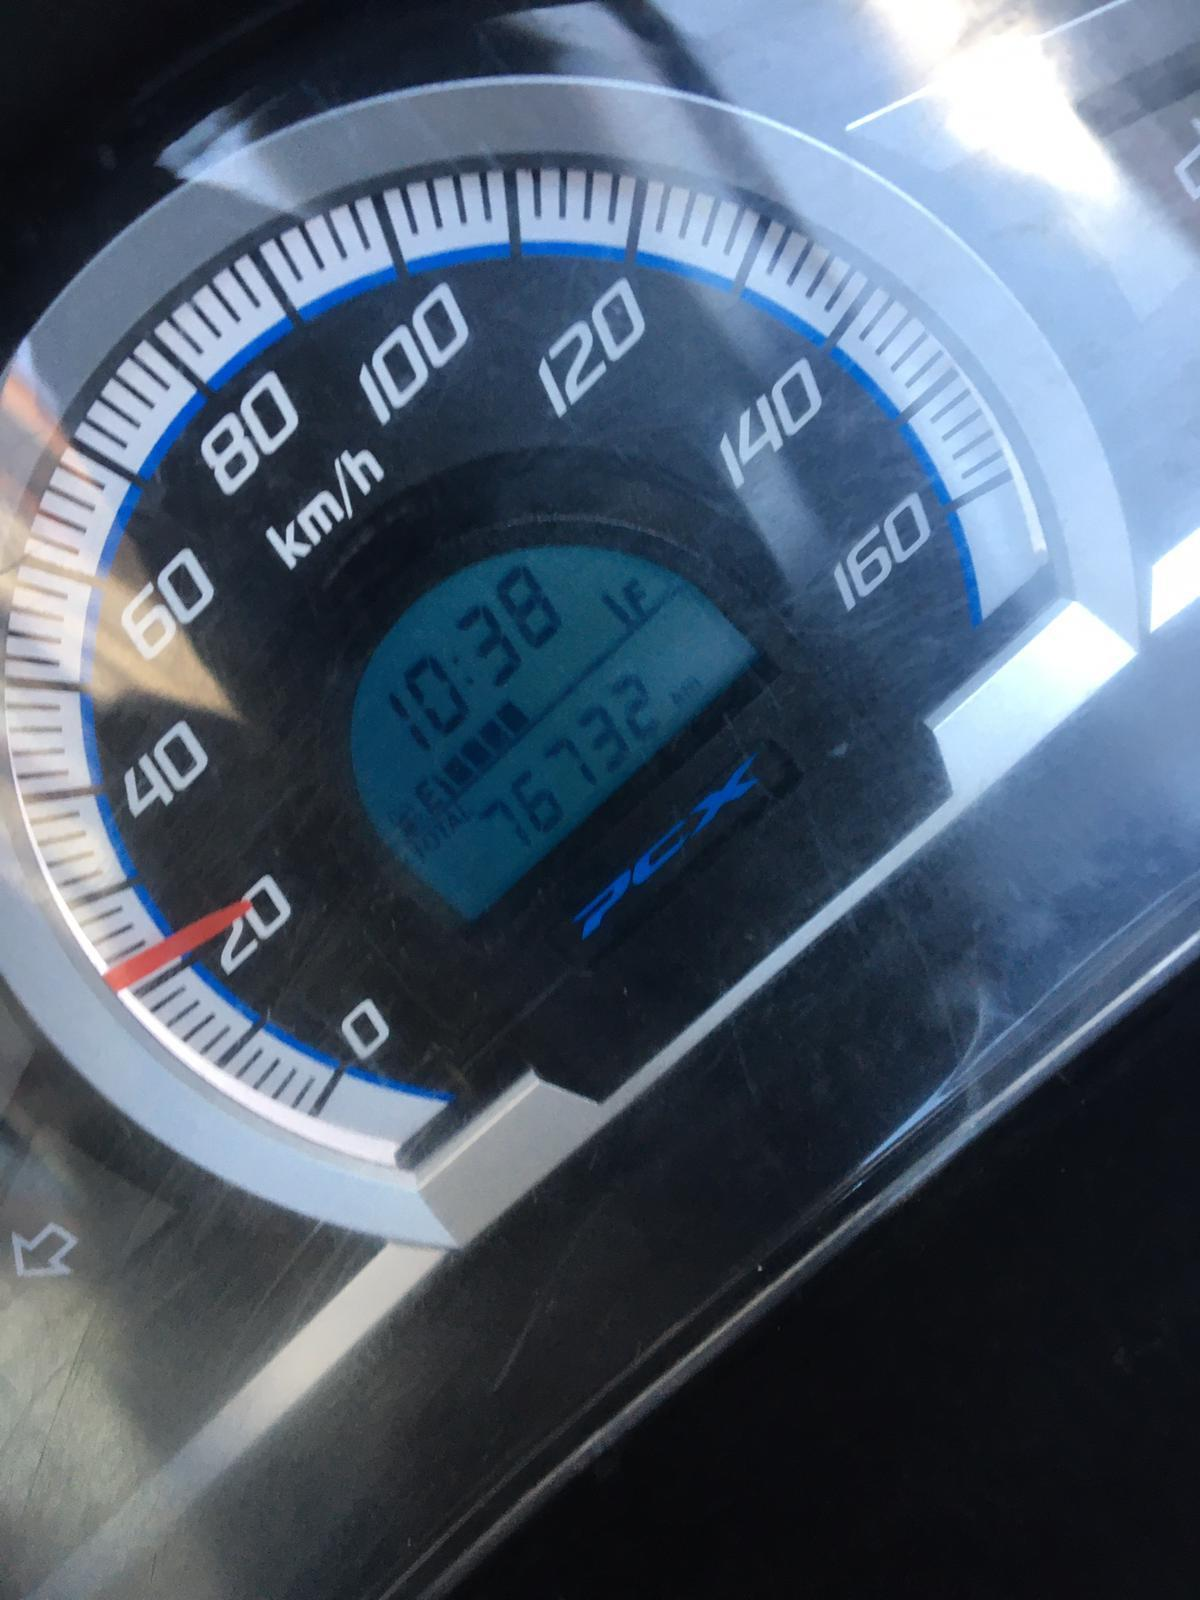0: (403, 649, 469, 734)
1: (376, 693, 434, 758)
2: (608, 673, 666, 742)
3: (451, 607, 523, 685), (574, 704, 632, 771)
6: (504, 769, 568, 835)
7: (542, 734, 599, 790), (482, 797, 531, 855)
8: (493, 561, 566, 648)
X: (410, 776, 447, 819), (623, 573, 654, 624), (449, 646, 482, 690), (405, 842, 430, 867), (454, 795, 476, 823), (671, 685, 692, 714), (440, 808, 464, 831), (679, 674, 703, 698), (420, 830, 442, 855), (434, 818, 453, 847)
odometer: (342, 524, 773, 923)
